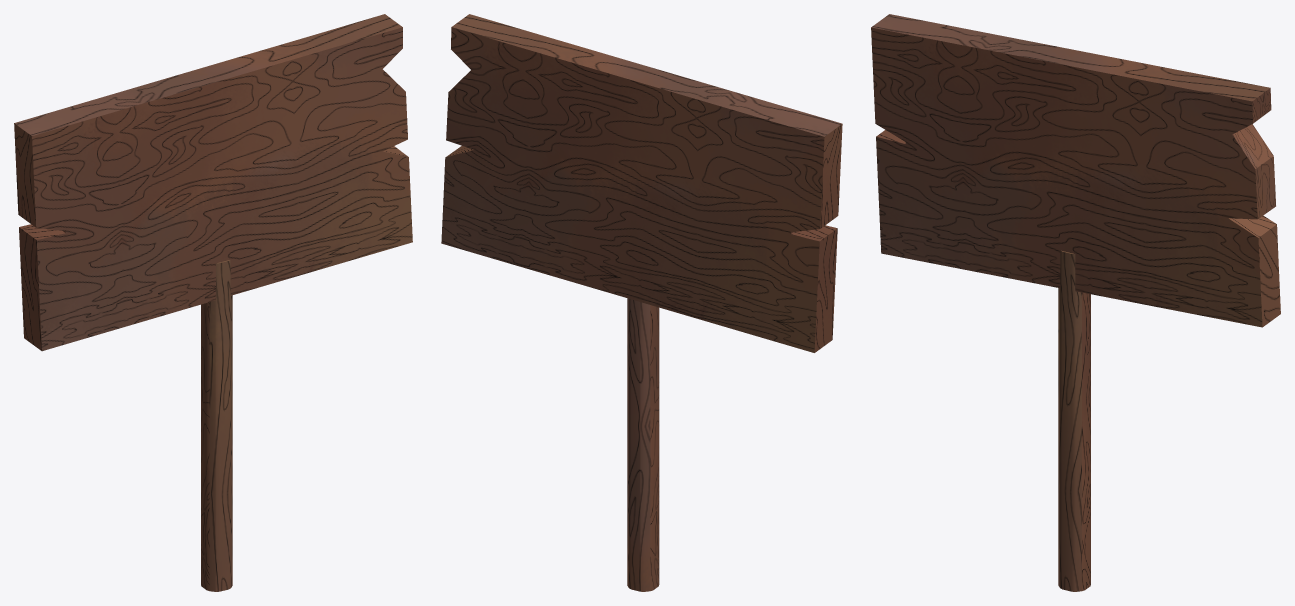
The model's file is wood_sign.fbx.
The picture shows the model from 3 angles, left to right: view 1: azimuth 30°, elevation 25°; view 2: azimuth 150°, elevation 25°; view 3: azimuth 330°, elevation 25°; orthographic projection. The views are drawn at different scales.
Visible parts, largest first — view 1: sign; view 2: sign; view 3: sign.
Part boxes in pixels (x1,y1,x2,y2): sign: [14, 14, 412, 591]; sign: [441, 14, 842, 591]; sign: [871, 14, 1280, 591].
Size of the model in its own units: 7.52 by 9.8 by 0.6859.
